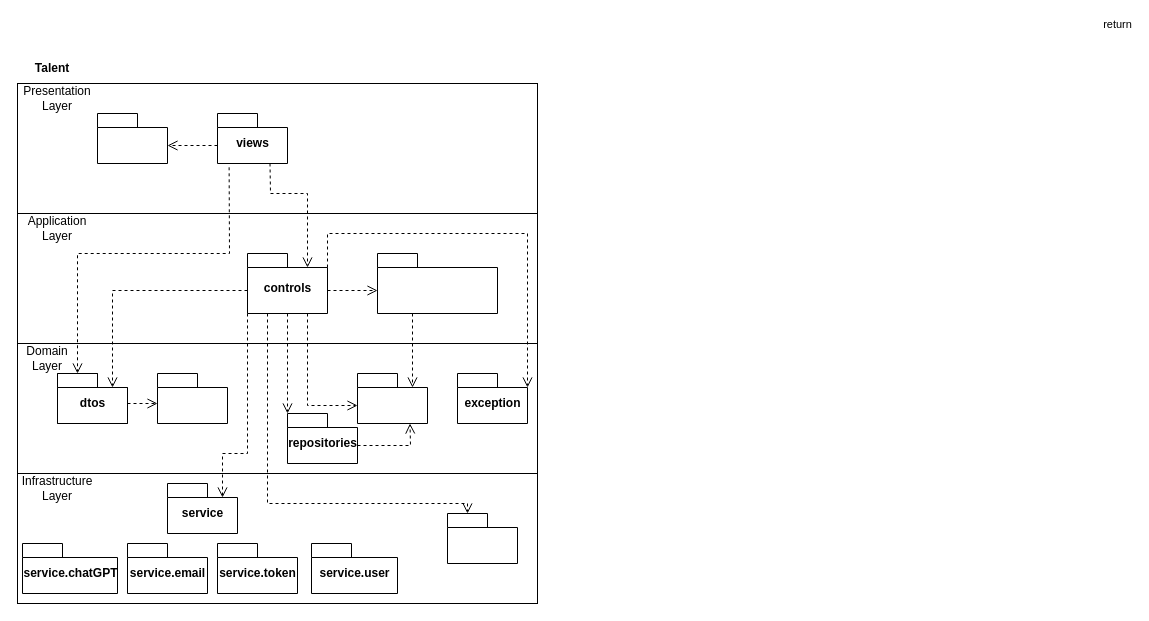
This 1149x621 diagram has some shape labels left out. Each missing label, with the centre of its shape:
"control.factories" belongs at [437,283].
"dtos.impl" belongs at [192,398].
"entitites" belongs at [392,398].
"layout" belongs at [132,138].
"utils" belongs at [482,538].
